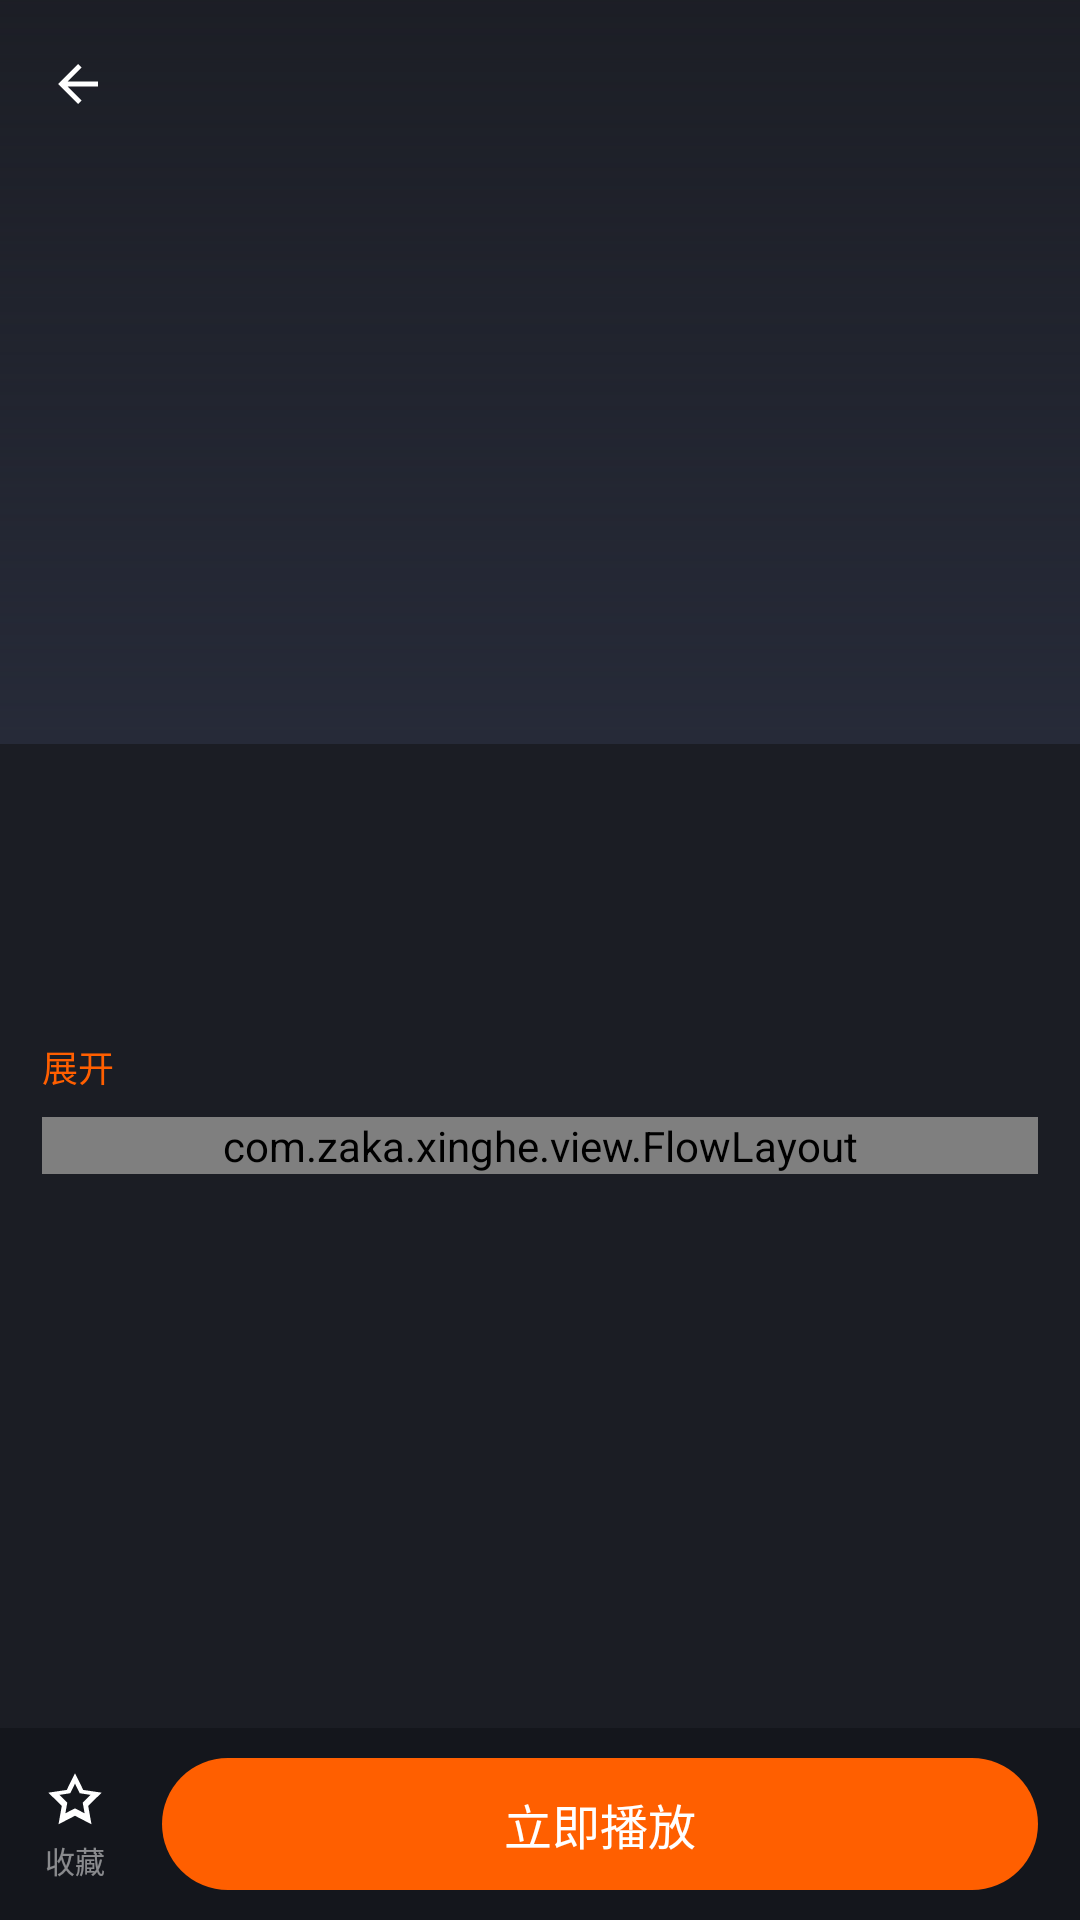

Locate icon controls on the screen. Image size 1080×1920, boxes as box=[x1, y1, x2, y2].
back: box=[58, 64, 98, 104]
star off: box=[48, 1773, 102, 1824]
